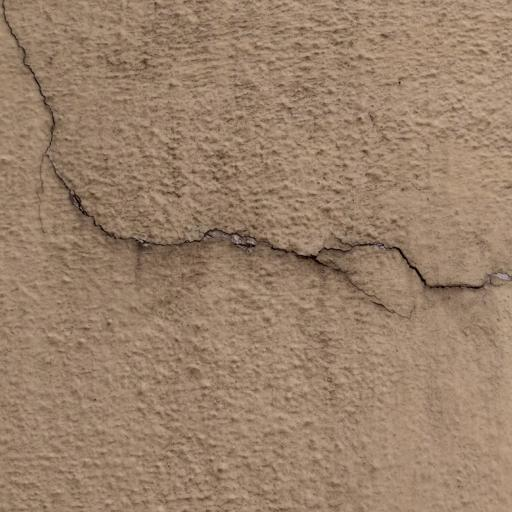major_crack: (0, 0, 505, 317)
